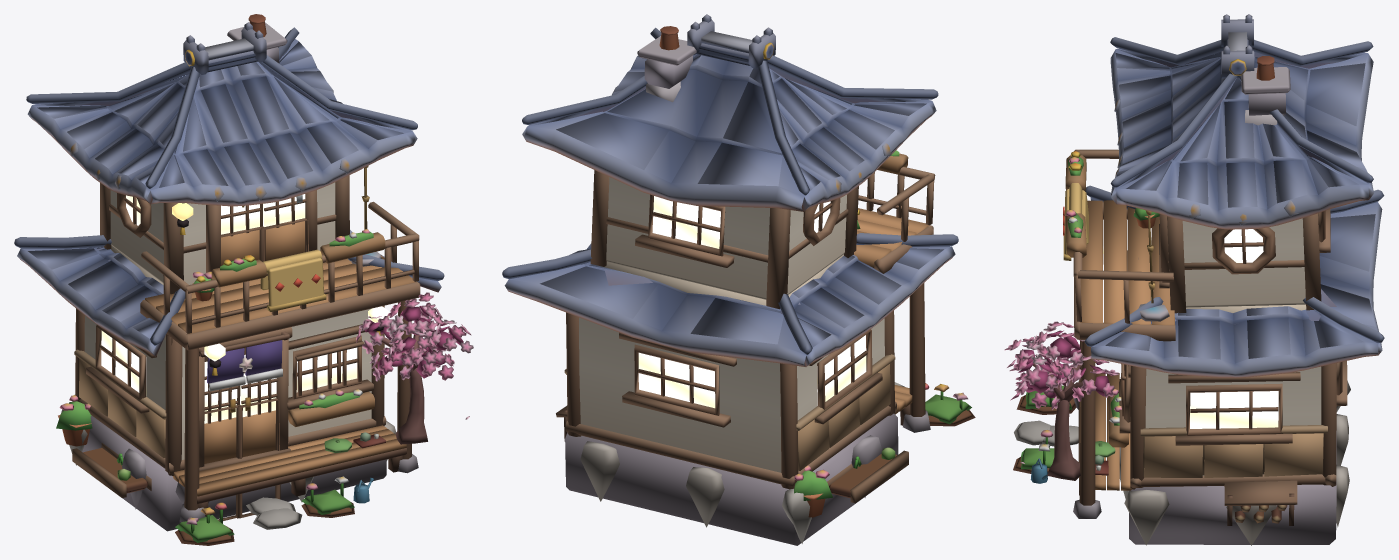
Rendered from home-3-v2.glb.
3 views of the same model, side by side, from view 1: azimuth 30°, elevation 25°; view 2: azimuth 150°, elevation 25°; view 3: azimuth 270°, elevation 25° (orthographic). The views are drawn at different scales.
Visible parts, largest first — view 1: home-3-v2, window_glow; view 2: home-3-v2, window_glow; view 3: home-3-v2, window_glow.
Part boxes in pixels (left/top/right/bottom): home-3-v2: left=14, top=14, right=473, bottom=545; window_glow: left=101, top=194, right=388, bottom=423; home-3-v2: left=502, top=14, right=975, bottom=545; window_glow: left=638, top=196, right=866, bottom=408; home-3-v2: left=1004, top=14, right=1384, bottom=545; window_glow: left=1103, top=229, right=1278, bottom=428.
Bounding box in the file's own units: 3.24 × 4.6 × 3.45.
